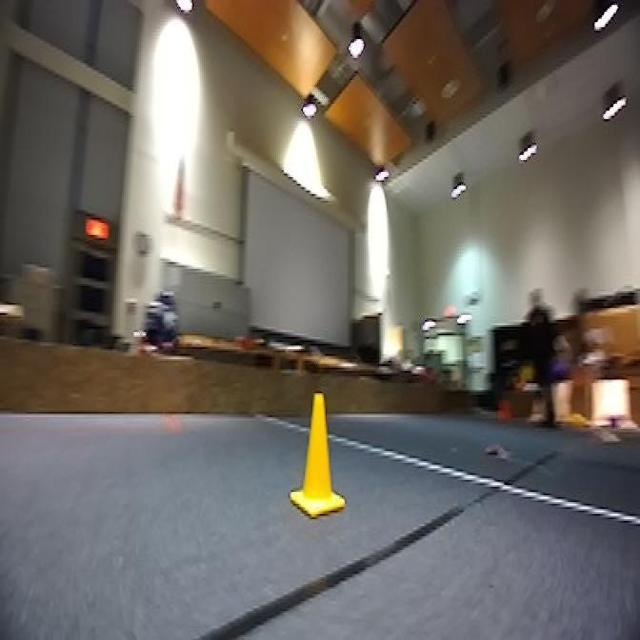frc_cone: (290, 388, 348, 521)
